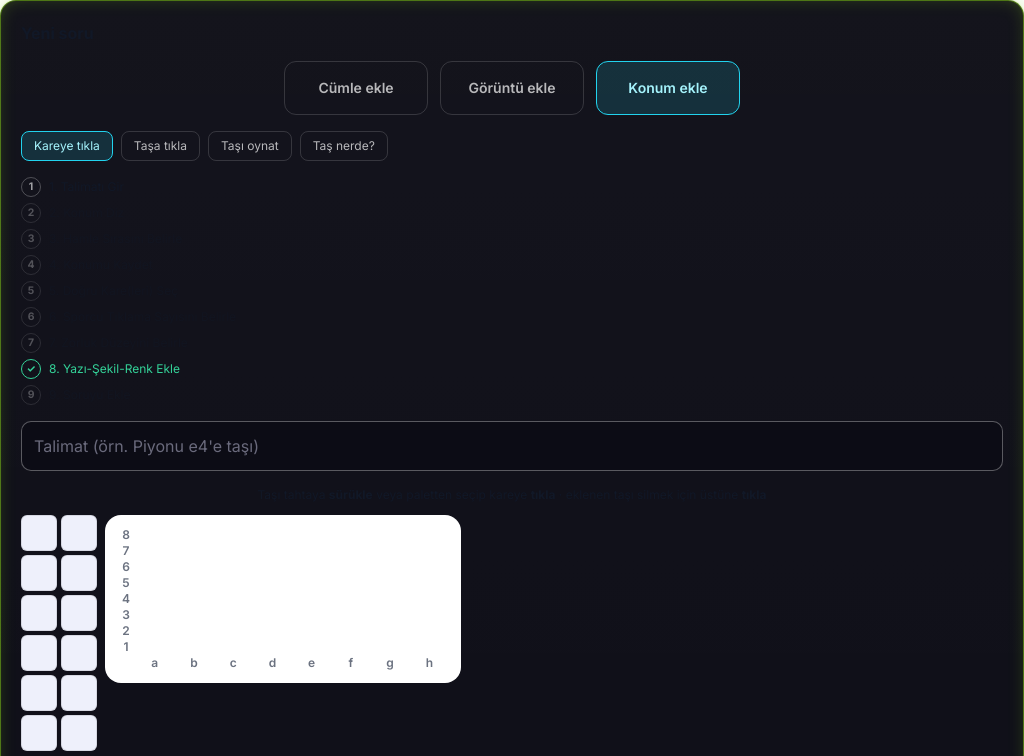
it: ExerciseForm — bölüm bağımsızlığı › Konum'a gidip dönünce de Cümle taslağı durur
Click the button "Cümle ekle": click(356, 88) [284,61,428,115]
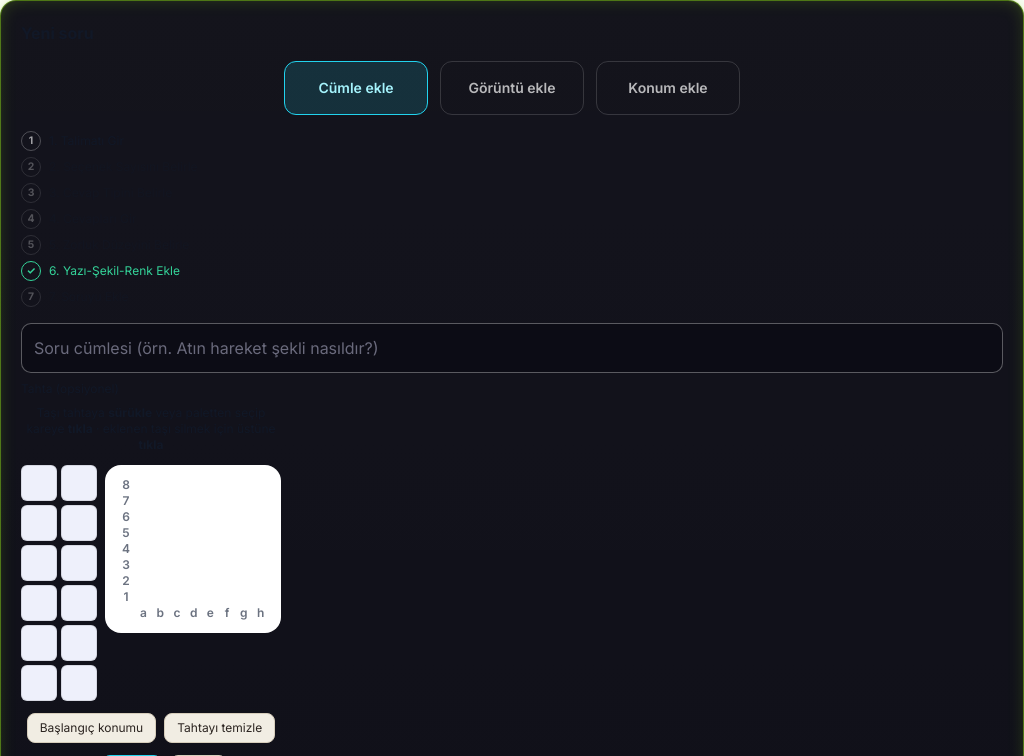
In the field with placeholder "Soru cümlesi (örn. Atın hareket şekli nasıldır?)": (512, 348) [21,323,1003,373], type "Kale kaç kare gider?"
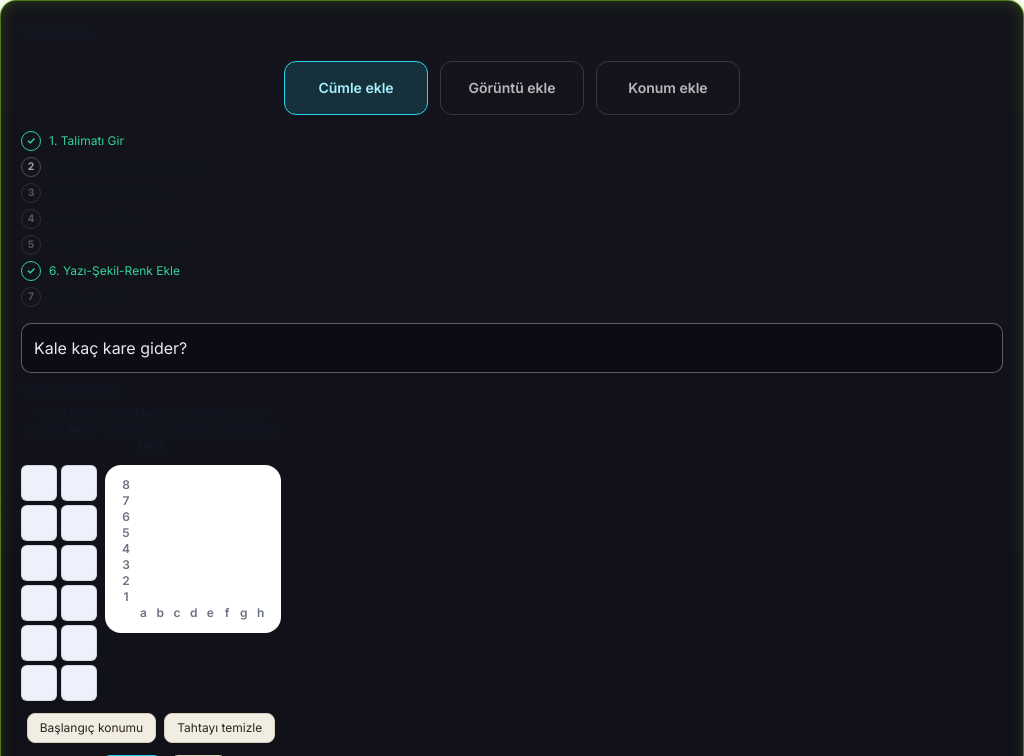
Click the button "Konum ekle": click(668, 88) [596,61,740,115]
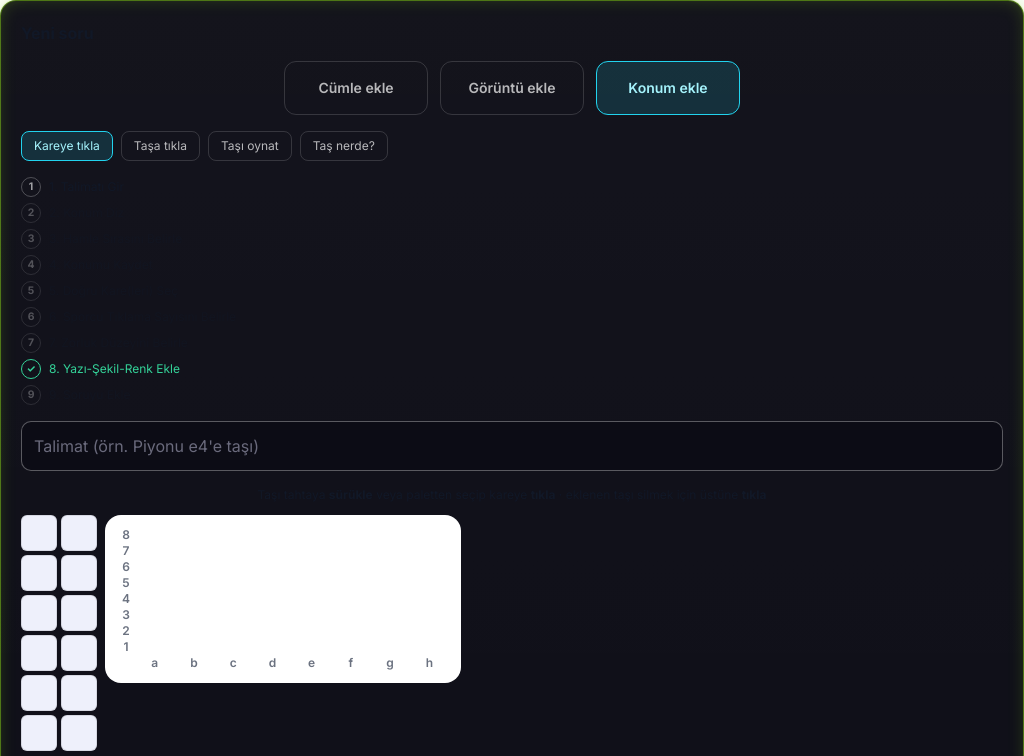
Expected: the button "Kareye tıkla" is shown, [21,131,113,161]
Click the button "Cümle ekle": click(356, 88) [284,61,428,115]
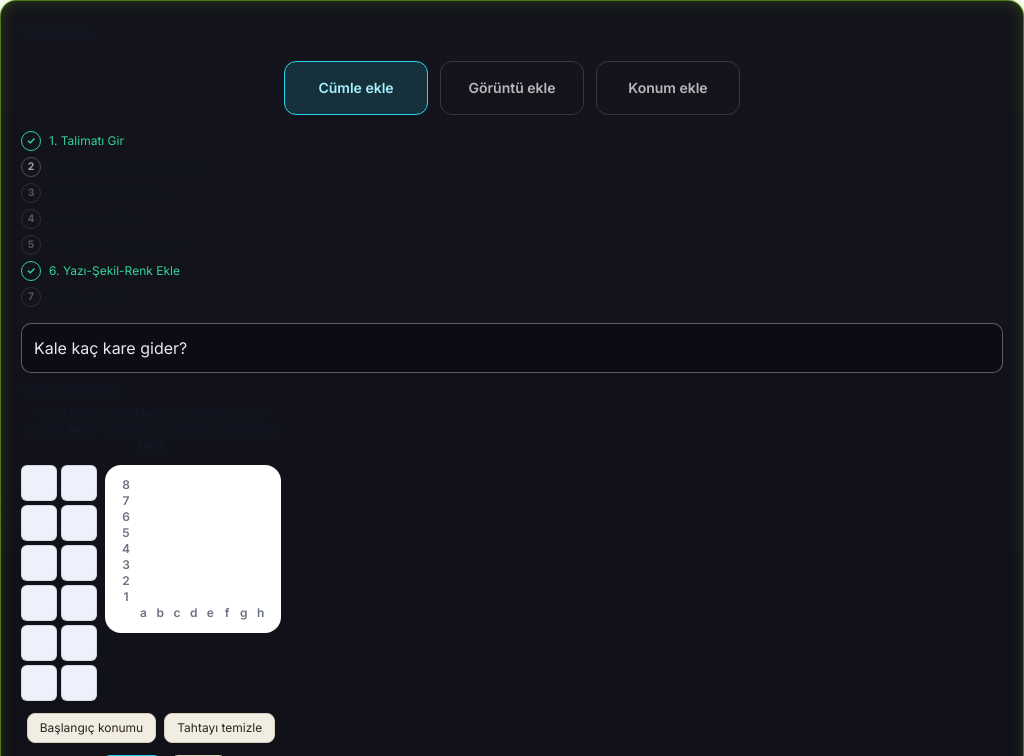
Expected: the field with placeholder "Soru cümlesi (örn. Atın hareket şekli nasıldır?)" holds "Kale kaç kare gider?", [21,323,1003,373]
